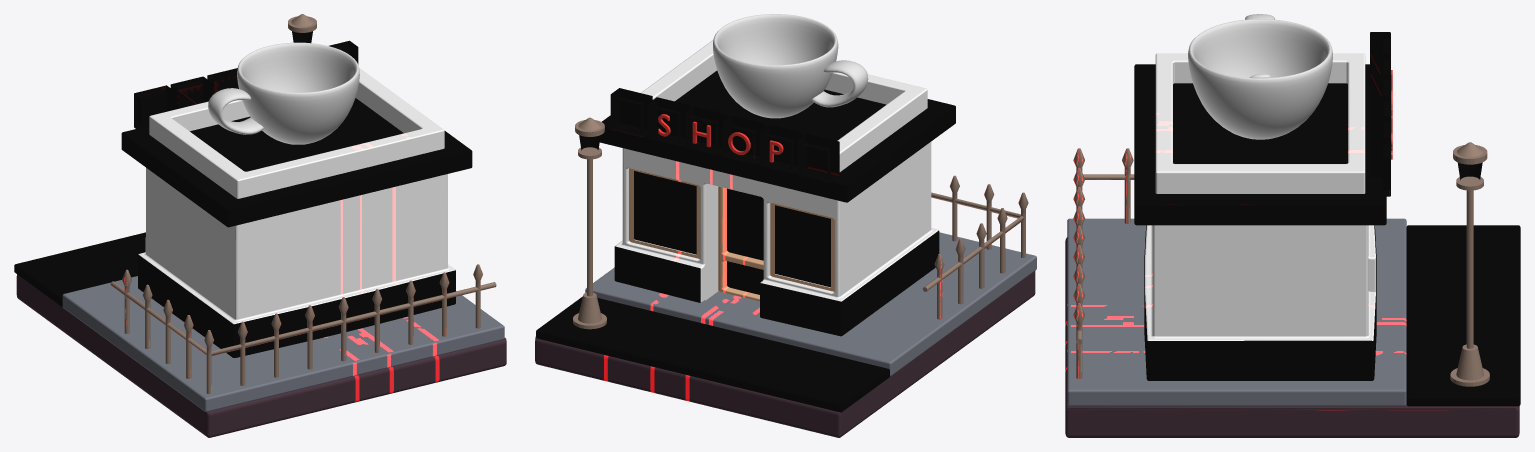
The model's file is shop-coffee-b_night.glb.
The picture shows the model from 3 angles, left to right: view 1: azimuth 30°, elevation 25°; view 2: azimuth 150°, elevation 25°; view 3: azimuth 270°, elevation 25°; orthographic projection. The views are drawn at different scales.
Parts seen in each view (by area): view 1: Plane.004_21, Plane.002_2, Plane.005_7, Plane_0, Plane.006_8, Circle_3, Plane.010_23, Plane.001_1, Plane.009_22, Circle.001_4, Plane.015_20, Plane.014_18 (+2 smaller); view 2: Plane.004_21, Plane.001_1, Plane.002_2, Plane.005_7, Plane_0, Circle_3, Plane.006_8, Plane.010_23, Circle.002_24, Plane.007_9, Plane.015_20, Plane.008_10 (+8 smaller); view 3: Plane.004_21, Plane.002_2, Plane.005_7, Plane.001_1, Plane_0, Circle_3, Plane.006_8, Circle.002_24, Plane.010_23, Plane.003_6, Plane.011_12, Plane.012_14 (+3 smaller).
Boxes of the visible parts, x1,y1,x2,y2 form: Plane.004_21: [138, 168, 455, 357]; Plane.002_2: [62, 276, 504, 411]; Plane.005_7: [121, 98, 472, 227]; Plane_0: [16, 274, 506, 437]; Plane.006_8: [149, 68, 444, 198]; Circle_3: [237, 42, 359, 144]; Plane.010_23: [122, 264, 482, 393]; Plane.001_1: [14, 232, 145, 306]; Plane.009_22: [110, 281, 496, 355]; Circle.001_4: [208, 88, 263, 134]; Plane.015_20: [134, 85, 175, 128]; Plane.014_18: [170, 76, 211, 109]; Plane.004_21: [614, 142, 939, 336]; Plane.001_1: [536, 296, 889, 412]; Plane.002_2: [585, 232, 1036, 376]; Plane.005_7: [599, 70, 955, 202]; Plane_0: [535, 271, 1035, 437]; Circle_3: [713, 14, 838, 118]; Plane.006_8: [641, 40, 927, 171]; Plane.010_23: [934, 175, 1028, 319]; Circle.002_24: [573, 117, 606, 329]; Plane.007_9: [629, 168, 834, 291]; Plane.015_20: [797, 133, 839, 182]; Plane.008_10: [718, 186, 763, 301]; Plane.004_21: [1144, 225, 1376, 380]; Plane.002_2: [1067, 218, 1406, 406]; Plane.005_7: [1134, 64, 1386, 225]; Plane.001_1: [1406, 225, 1520, 406]; Plane_0: [1065, 237, 1519, 437]; Circle_3: [1188, 19, 1332, 139]; Plane.006_8: [1155, 53, 1365, 193]; Circle.002_24: [1450, 142, 1489, 386]; Plane.010_23: [1073, 148, 1133, 378]; Plane.003_6: [1370, 137, 1390, 196]; Plane.011_12: [1370, 116, 1390, 137]; Plane.012_14: [1370, 95, 1390, 116].
Bounding box in the file's own units: 8.05 × 6.86 × 8.91.
Materials: 11 (2 with a texture image).
